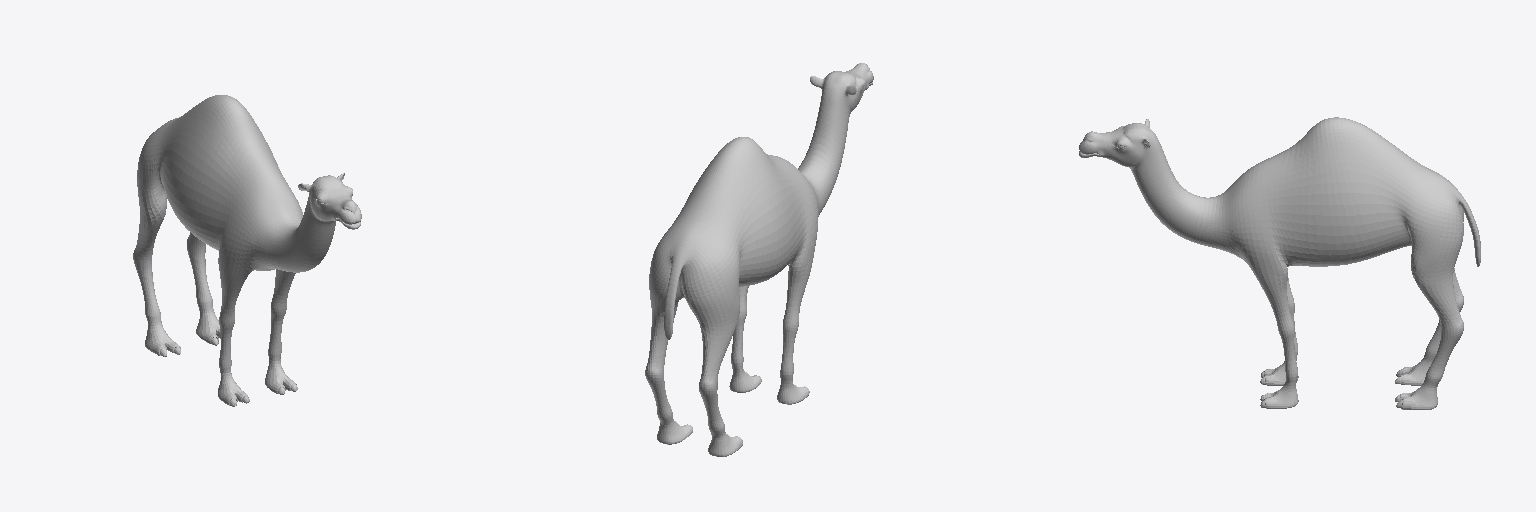
The model's file is Camel.obj.
3 renders of one model, left to right at view 1: azimuth 30°, elevation 25°; view 2: azimuth 150°, elevation 25°; view 3: azimuth 270°, elevation 25°, orthographic.
Visible parts, largest first — view 1: Camel; view 2: Camel; view 3: Camel.
Part boxes in pixels (x1,y1,x2,y2): Camel: (133, 95, 361, 406); Camel: (645, 63, 873, 456); Camel: (1079, 117, 1480, 409).
Size of the model in its own units: 0.7427 by 2.17 by 2.88.